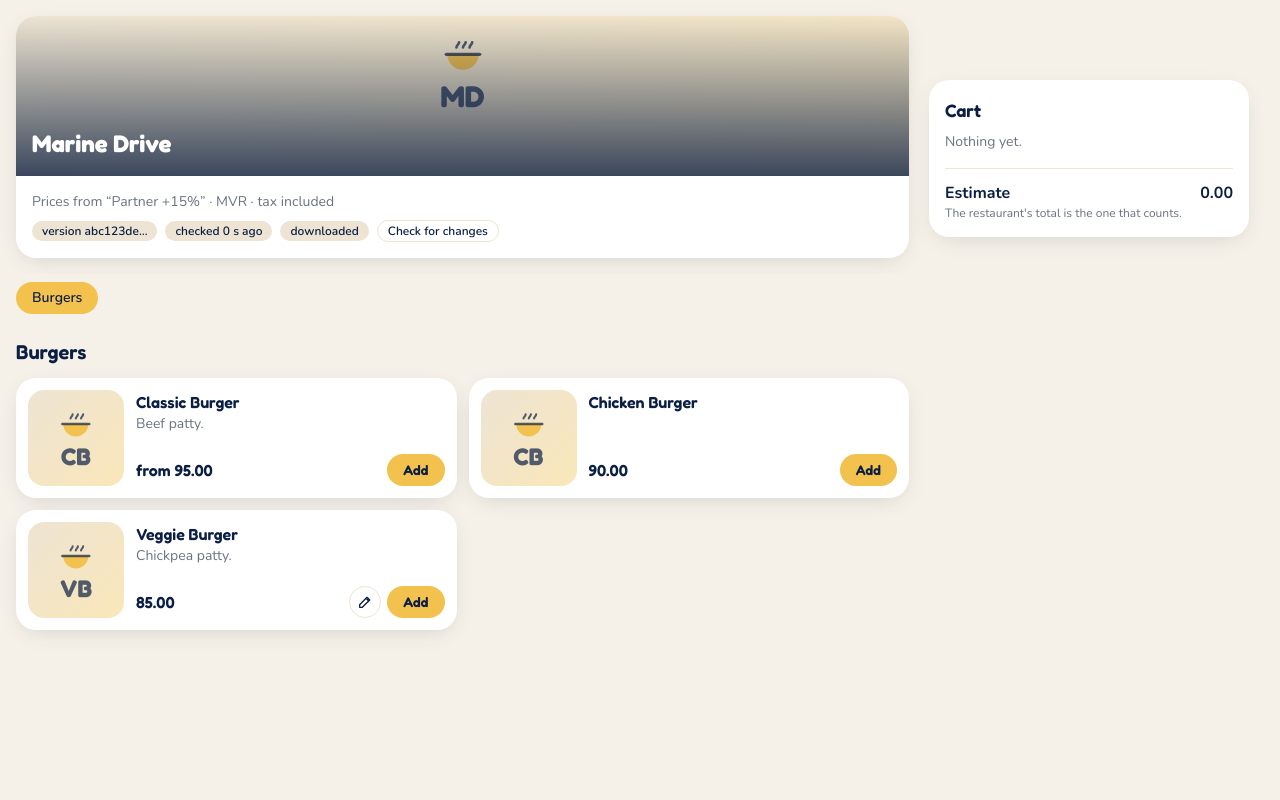
Test: MenuPage › opens the picker in a sheet for an item with sizes or modifiers, and greys an unavailable size
Expected: the text "Prices from “Partner +15%” · MVR · tax included" is shown, [32,192,334,211]
Click the button with aria-label "Add Classic Burger": point(416, 470) [387,454,444,486]
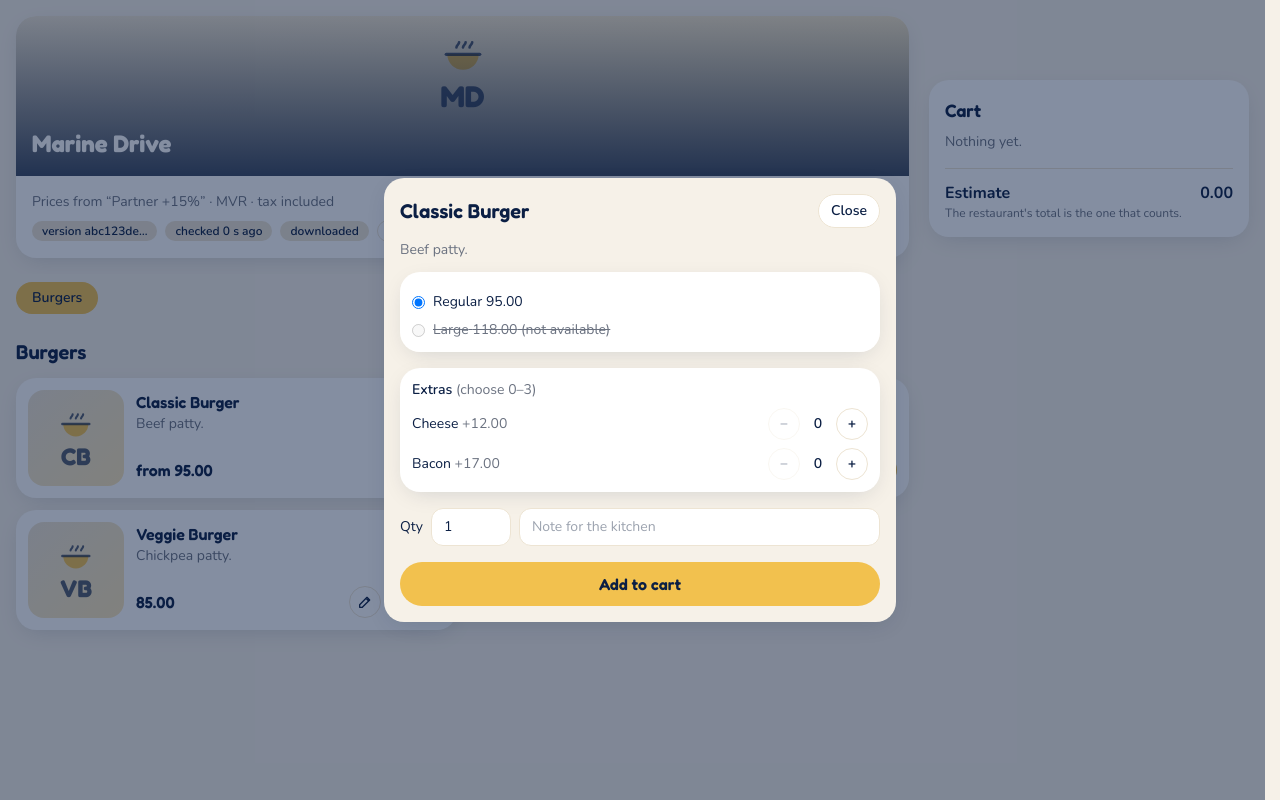
Expected: the radio button labelled "Regular 95.00" is enabled, [412,296,425,308]
Expected: the radio button labelled "Large 118.00 (not available)" is disabled, [412,324,425,336]
Expected: the dialog "Classic Burger" shows "95.00", [486,292,523,311]
